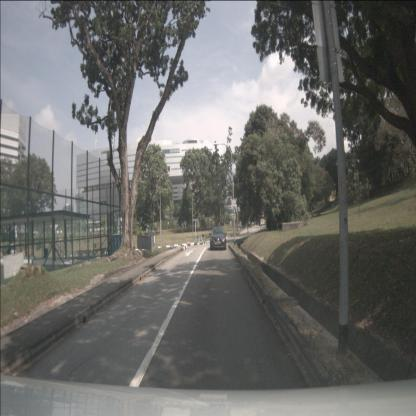vehicle-car: (210, 227, 226, 250)
